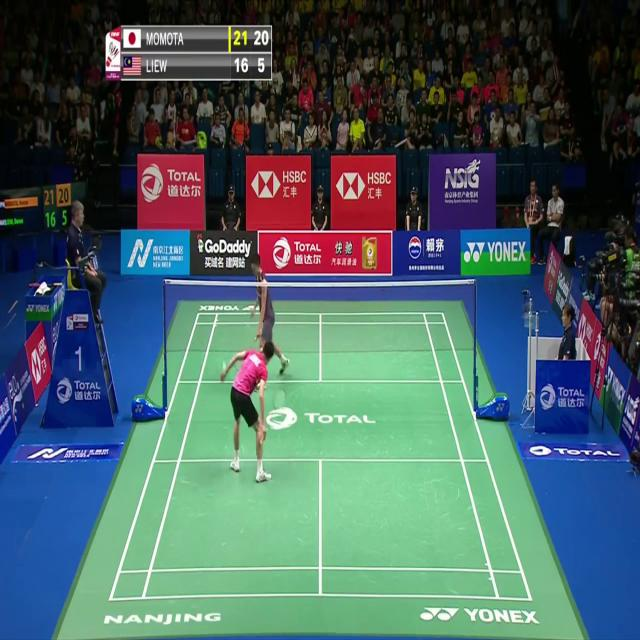Shuttlecock: (221, 361, 228, 373)
